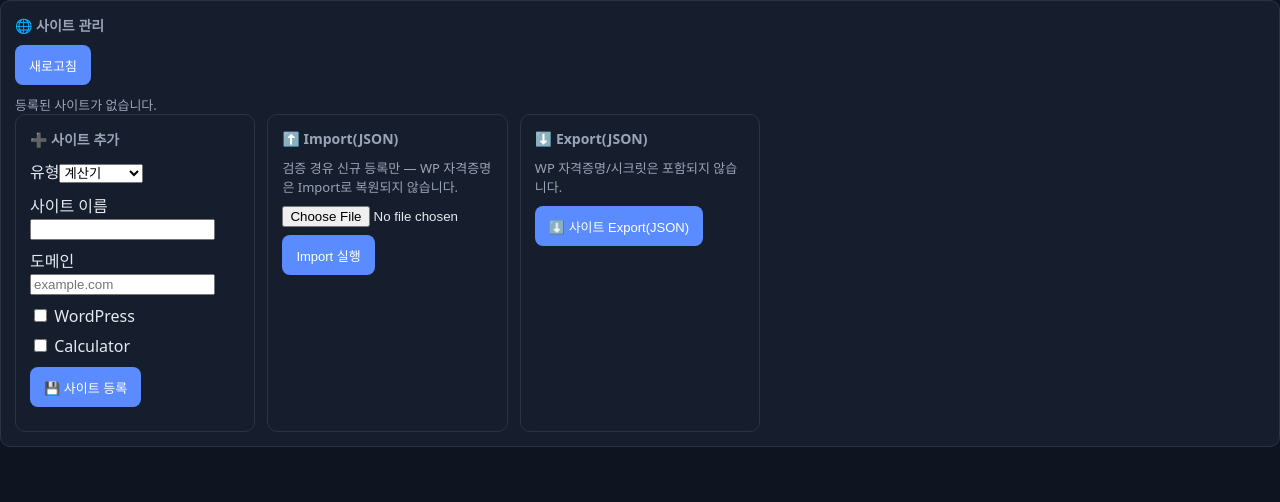
Scenario: Site Create form (STEP P2-06) › shows a validation error message from the API (e.g. duplicate domain)
The image size is (1280, 502).
Type "x" into the field labelled "사이트 이름" at (122, 230), box x1=30 y1=219 x2=215 y2=240
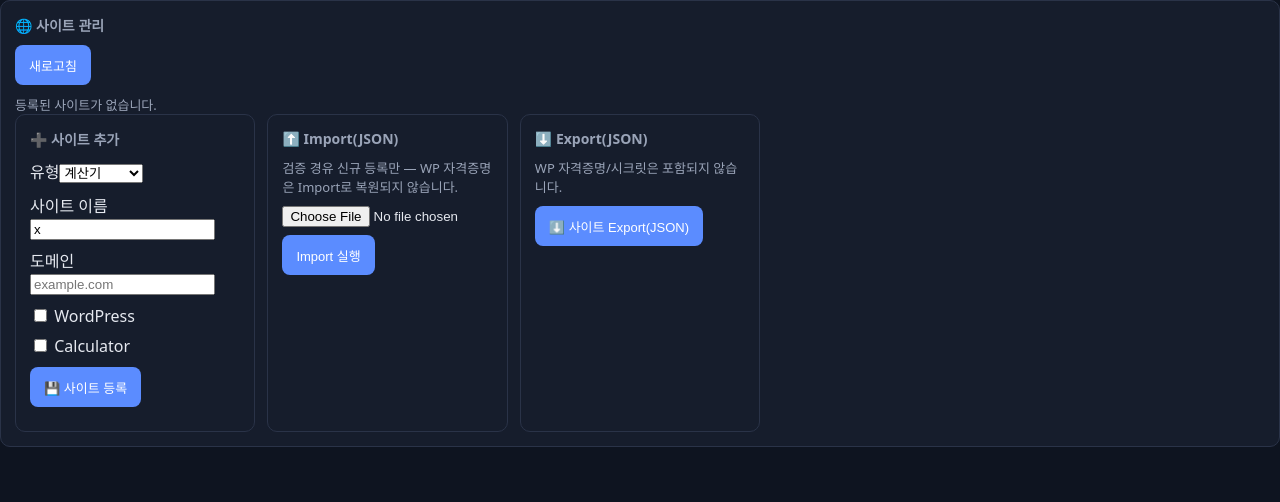
Type "new.example.com" into the field labelled "도메인" at (122, 284), box x1=30 y1=274 x2=215 y2=295
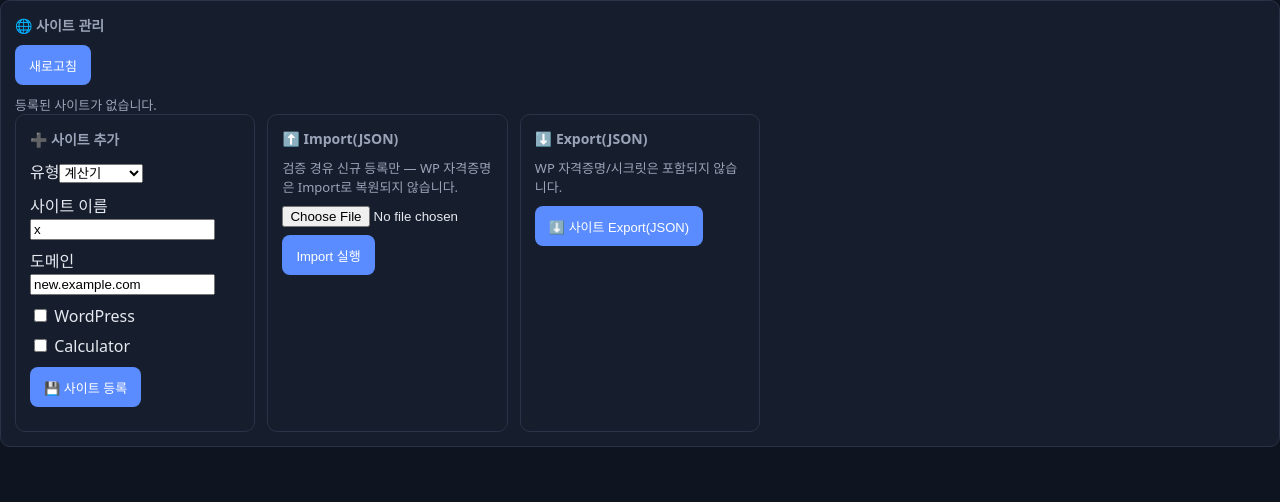
Click the button "💾 사이트 등록" at (86, 387), box x1=30 y1=367 x2=141 y2=407
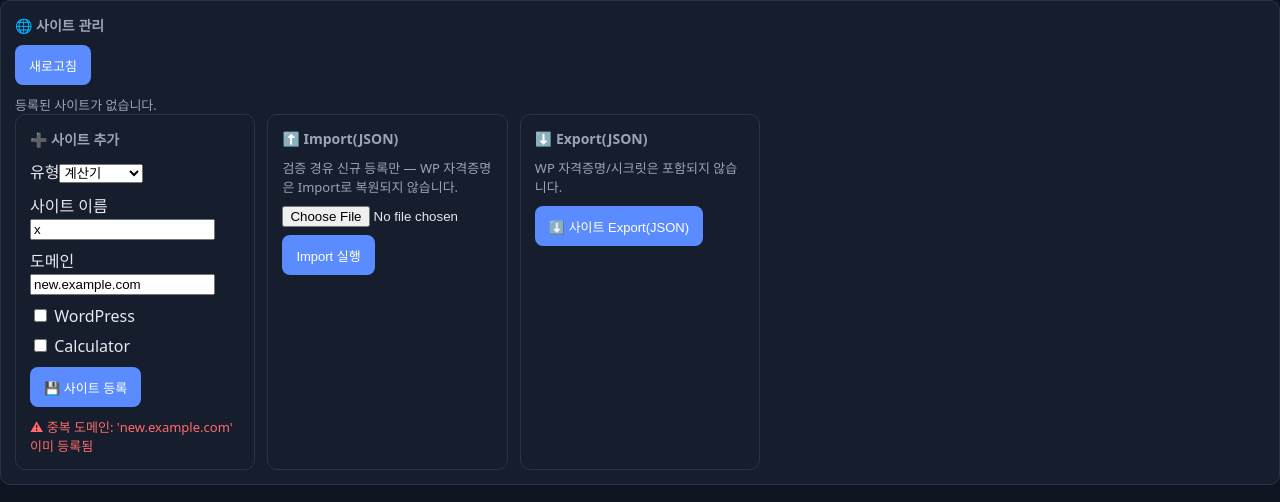
Check: the text "⚠ 중복 도메인: 'new.example.com' 이미 등록됨" is shown, box x1=30 y1=417 x2=240 y2=455
